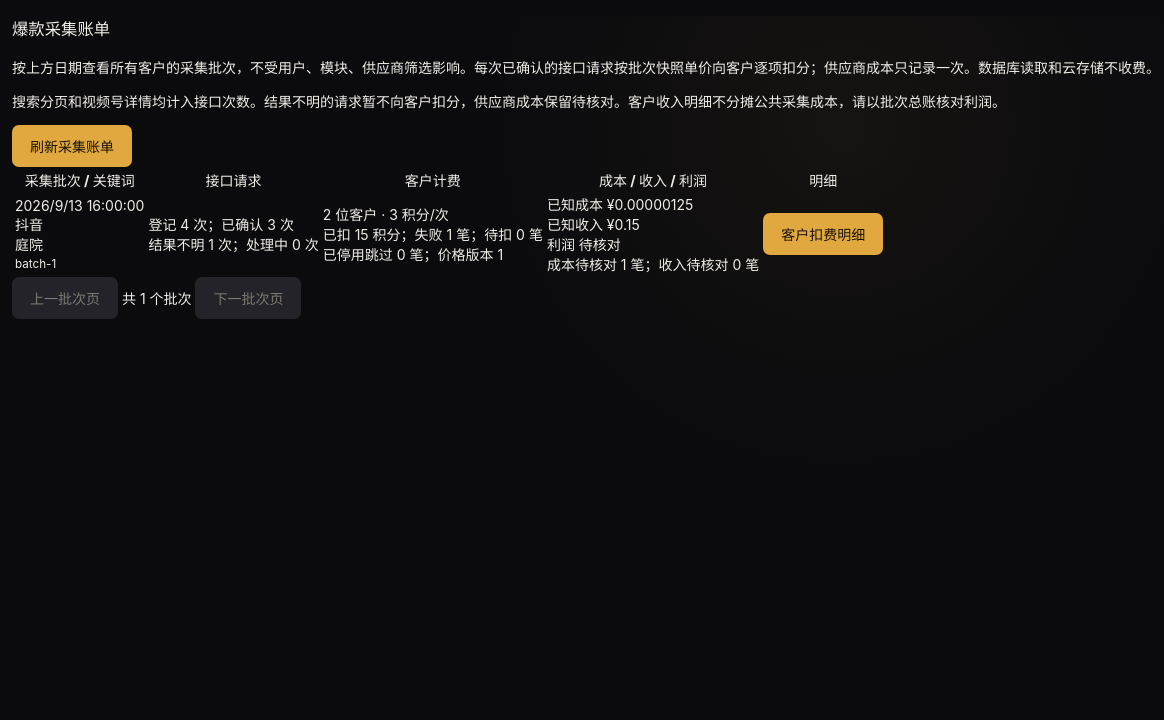
Test case: ViralVideosPage › 采集账单区分接口次数、客户扣费笔数和余额不足记录
expect the text "登记 4 次；已确认 3 次" is shown: met, box left=147, top=193, right=320, bottom=275
expect the text "失败 1 笔；待扣 0 笔" is shown: met, box left=322, top=193, right=544, bottom=275
Click the button "客户扣费明细" at (823, 234), box left=763, top=213, right=883, bottom=255
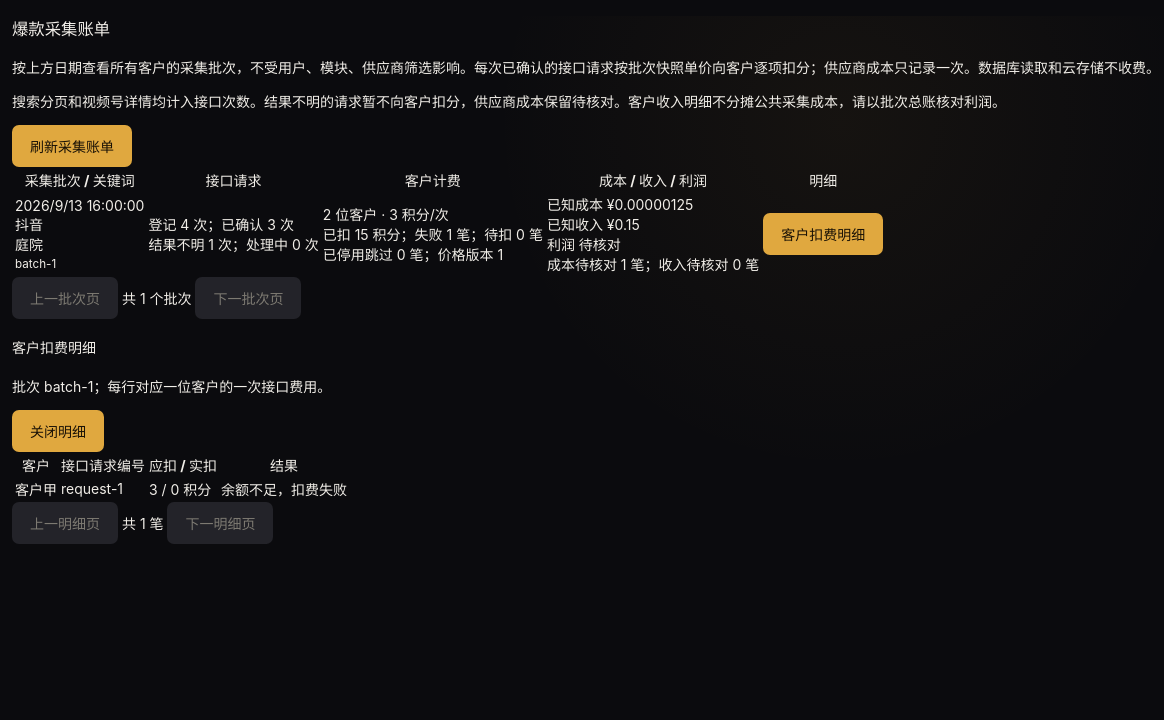
expect the text "客户甲" is shown: met, box left=14, top=478, right=58, bottom=500
expect the text "余额不足，扣费失败" is shown: met, box left=220, top=478, right=348, bottom=500
expect the text "3 / 0 积分" is shown: met, box left=148, top=478, right=218, bottom=500
